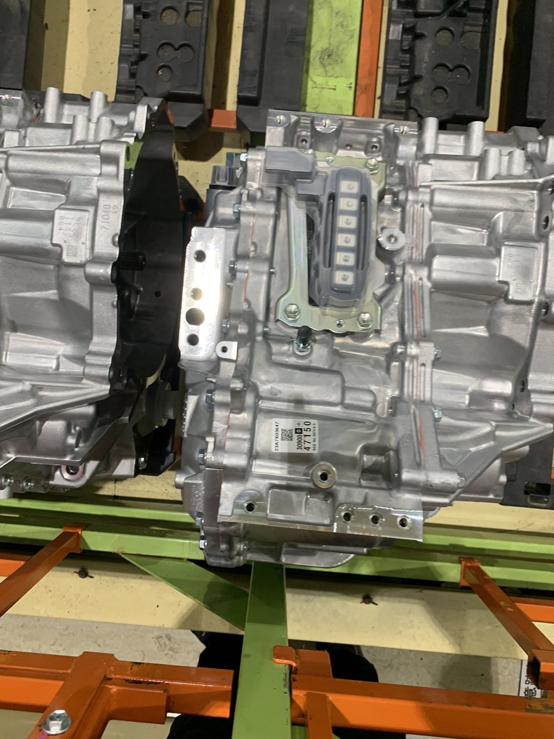gearbox_type3: (160, 123, 553, 561)
gearbox_type3_FP1: (320, 165, 373, 304)
gearbox_type3_FP2: (311, 456, 337, 493)
gearbox_type3_FP3: (177, 224, 231, 366)
